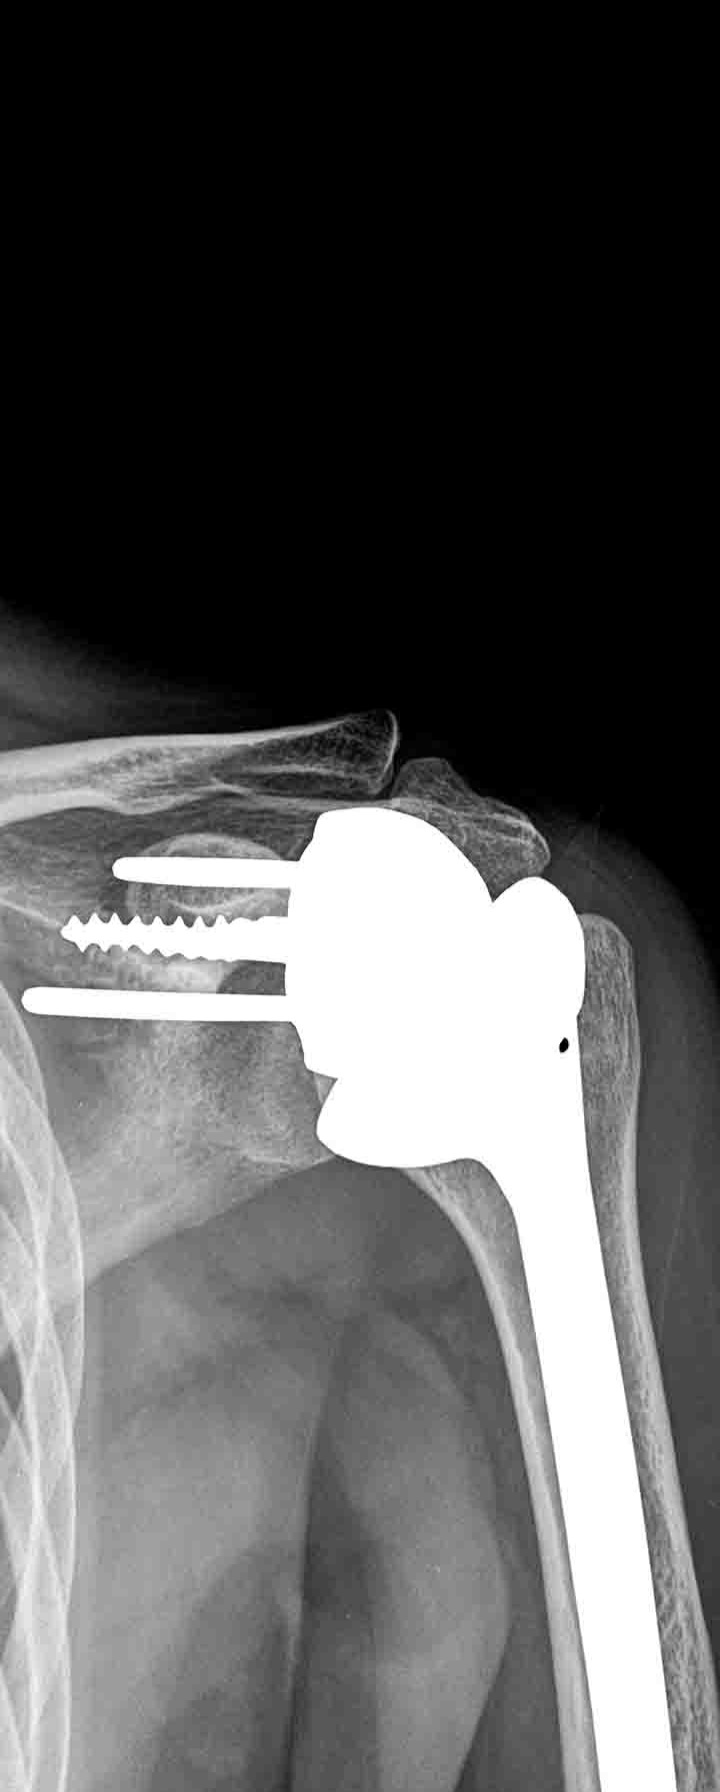Shoulder-Reverse-DJO: (14, 768, 691, 1792)
